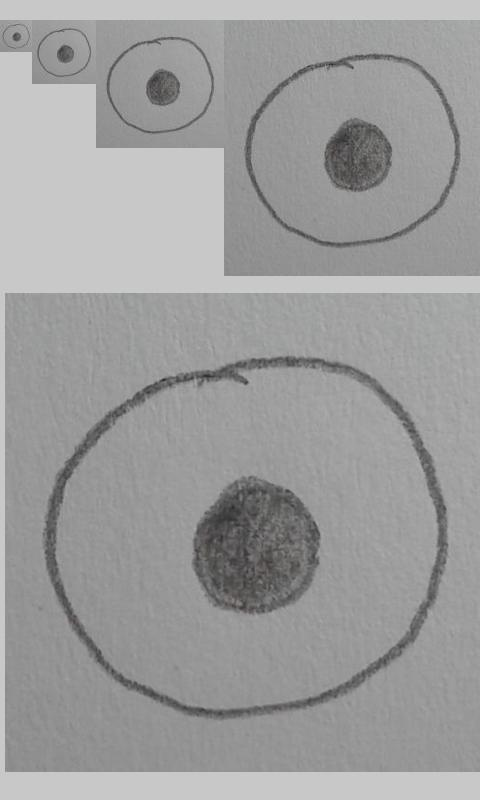radio_button: (41, 353, 449, 722), (245, 54, 460, 248), (106, 36, 216, 134), (36, 27, 92, 78), (2, 23, 31, 49)
